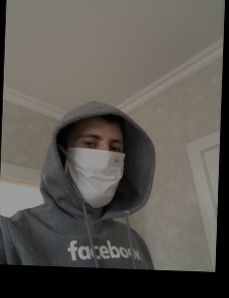with_mask: (65, 128, 125, 210)
